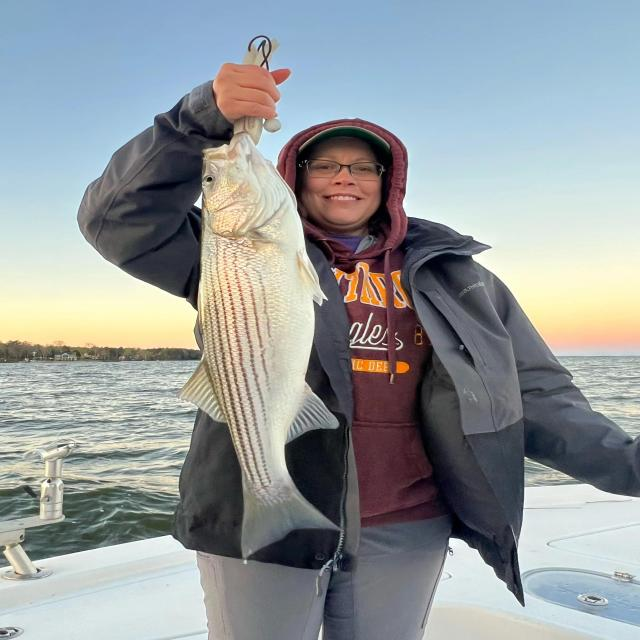Bass - Striped: (179, 116, 340, 567), (179, 123, 340, 568)
